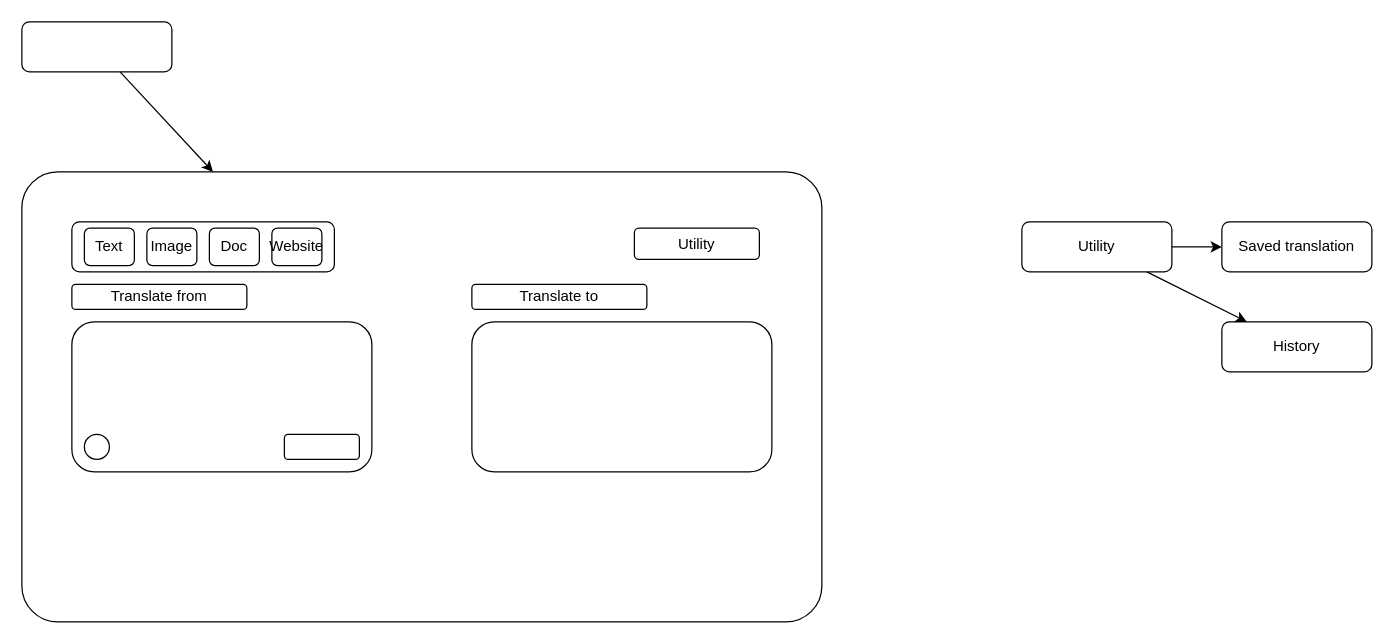
The diagram is 1394 pixels wide and 644 high, and some of its shapes have lost their labels. The centre of each missing label's shape, as x and y in pixels:
"Input type" goes at point 321,446.
"Main window" goes at point 96,46.
"Voice" goes at point 96,446.
